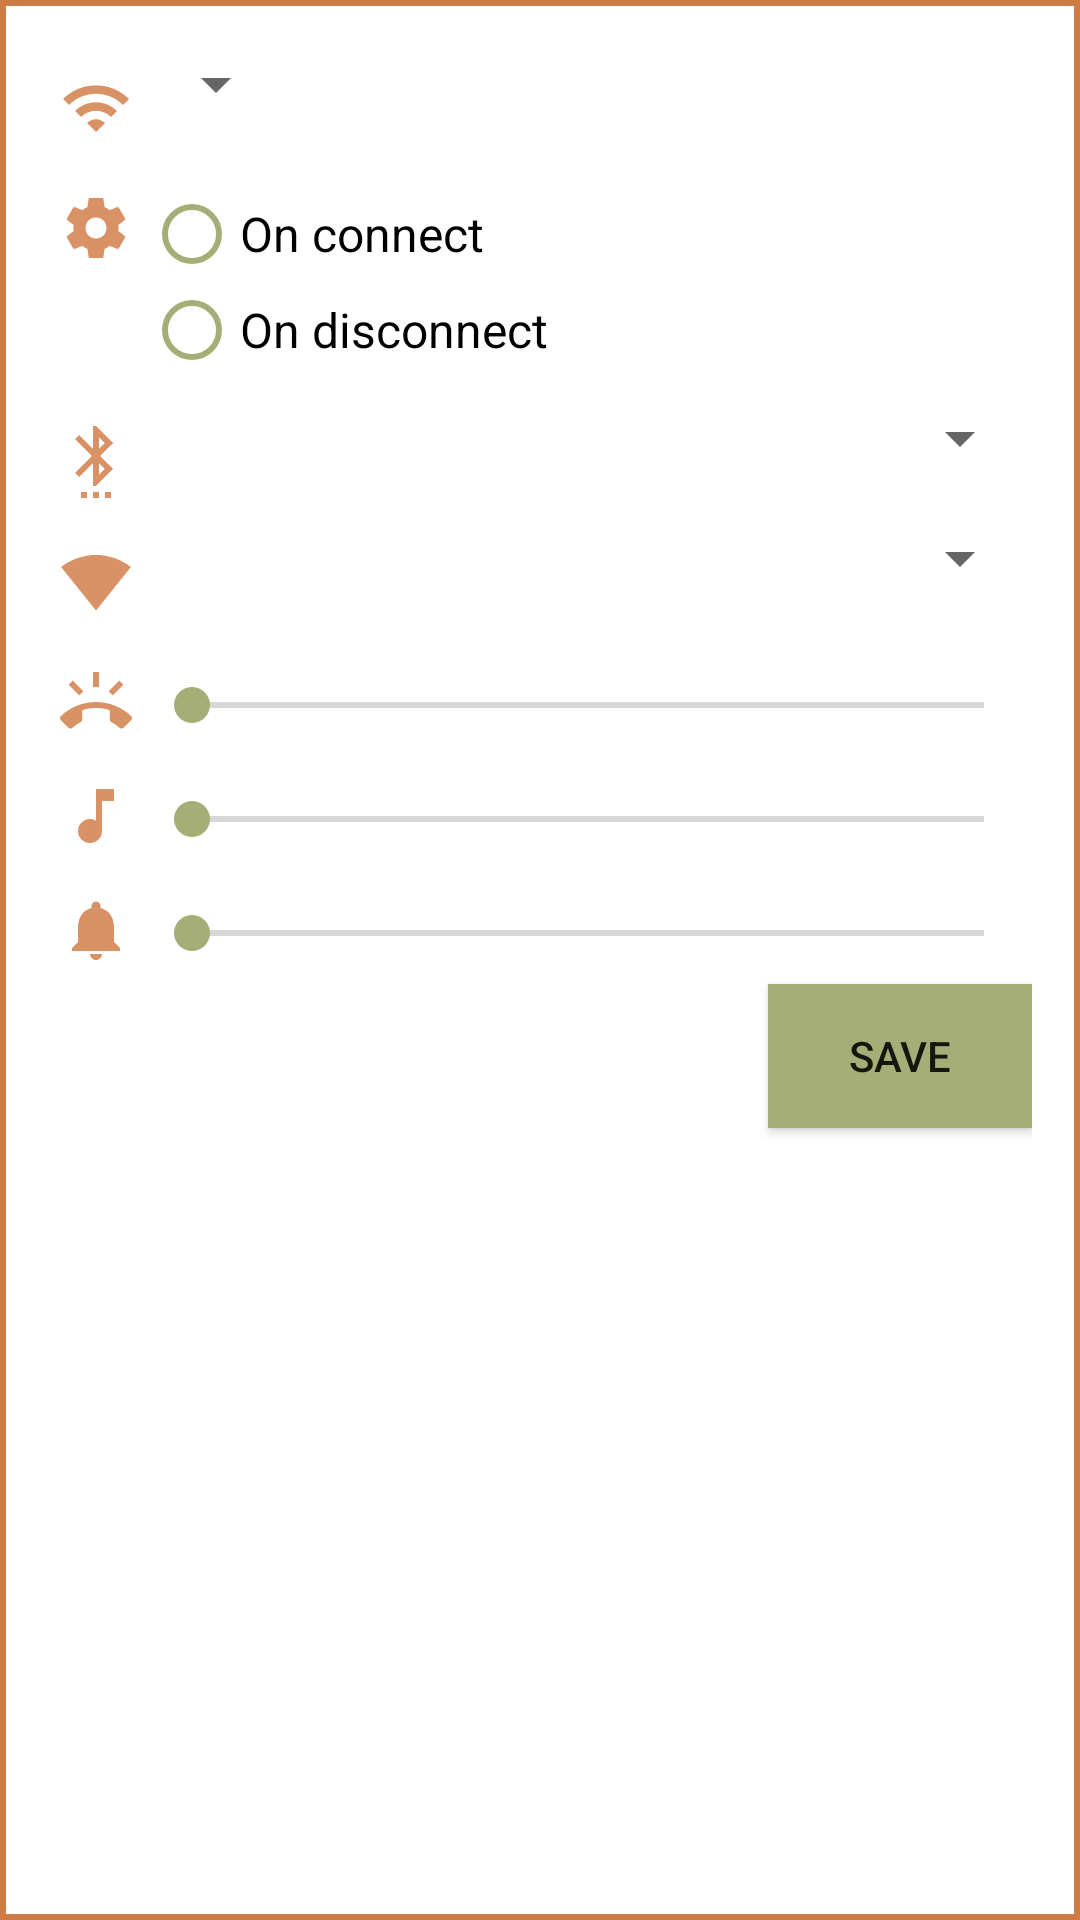

Locate icon controls on the screen. Image size 1080 x 1920, boxes as (x1, y1, x2, y2).
Media Volume Settings: (78, 789, 114, 843)
Notification Volume Settings: (72, 901, 120, 960)
Ring Volume Settings: (60, 672, 132, 729)
Trigger Settings: (67, 198, 125, 258)
Wifi Settings: (61, 555, 131, 610)
